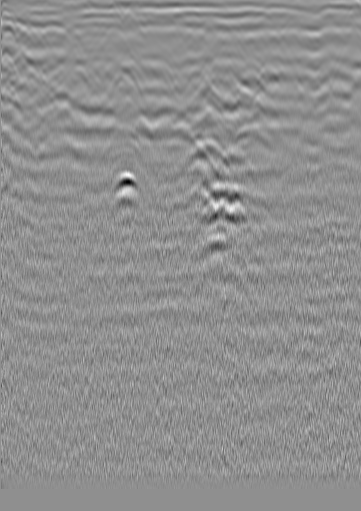가스: (105, 169, 142, 203)
상수: (40, 31, 60, 51)
오수: (295, 27, 315, 47)
우수: (159, 39, 179, 59)
